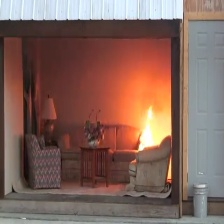fire: (136, 105, 164, 157)
